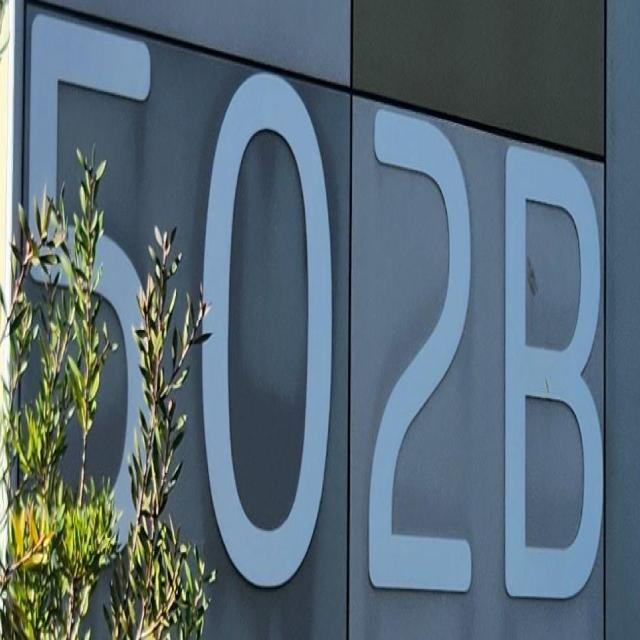character: (22, 7, 171, 578), (199, 65, 335, 598), (359, 103, 477, 598), (500, 139, 609, 609)
